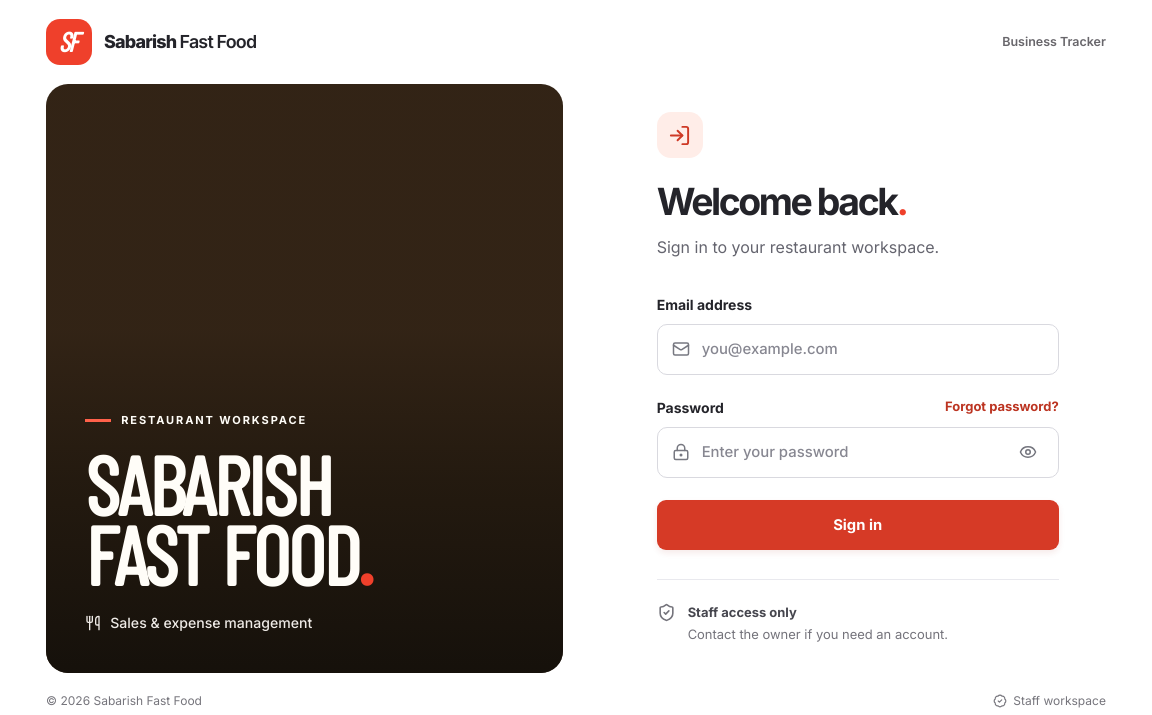
it: Staff sign in › submits a recovery request and shows a generic acknowledgement
Click the button "Forgot password?".
click(1002, 407)  # box [945,398,1059,417]
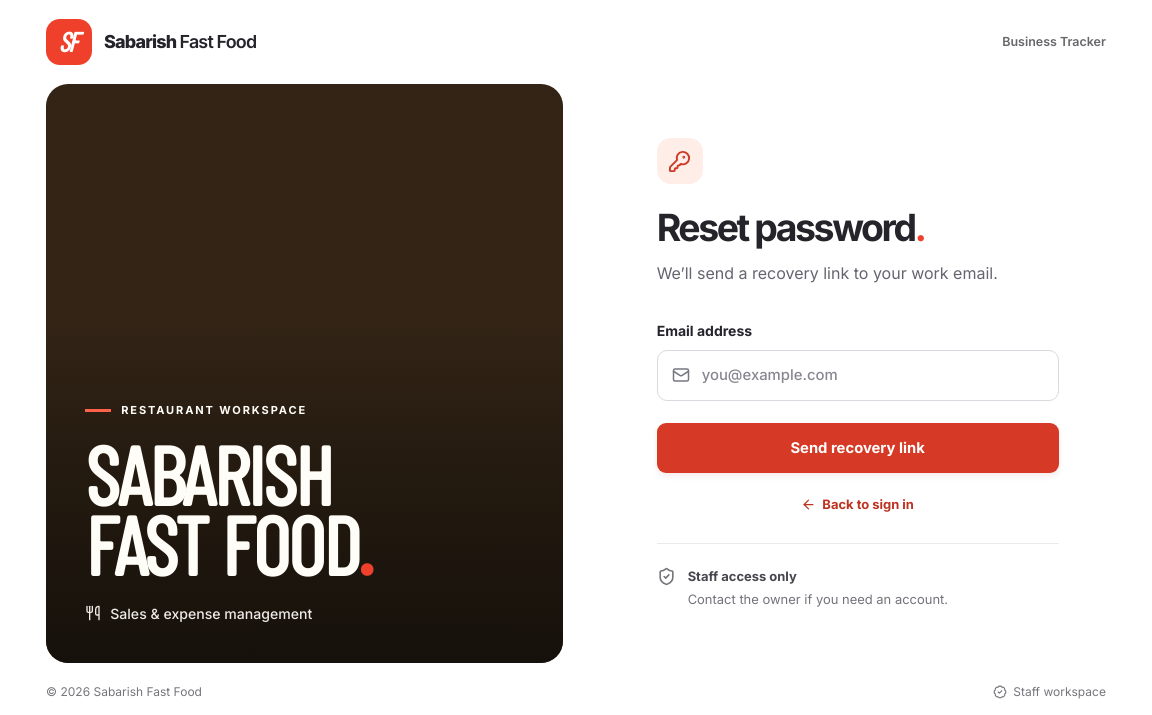
Type "owner@example.test" into the field labelled "Email address".
click(873, 375); type("owner@example.test")  # box [702,351,1044,400]
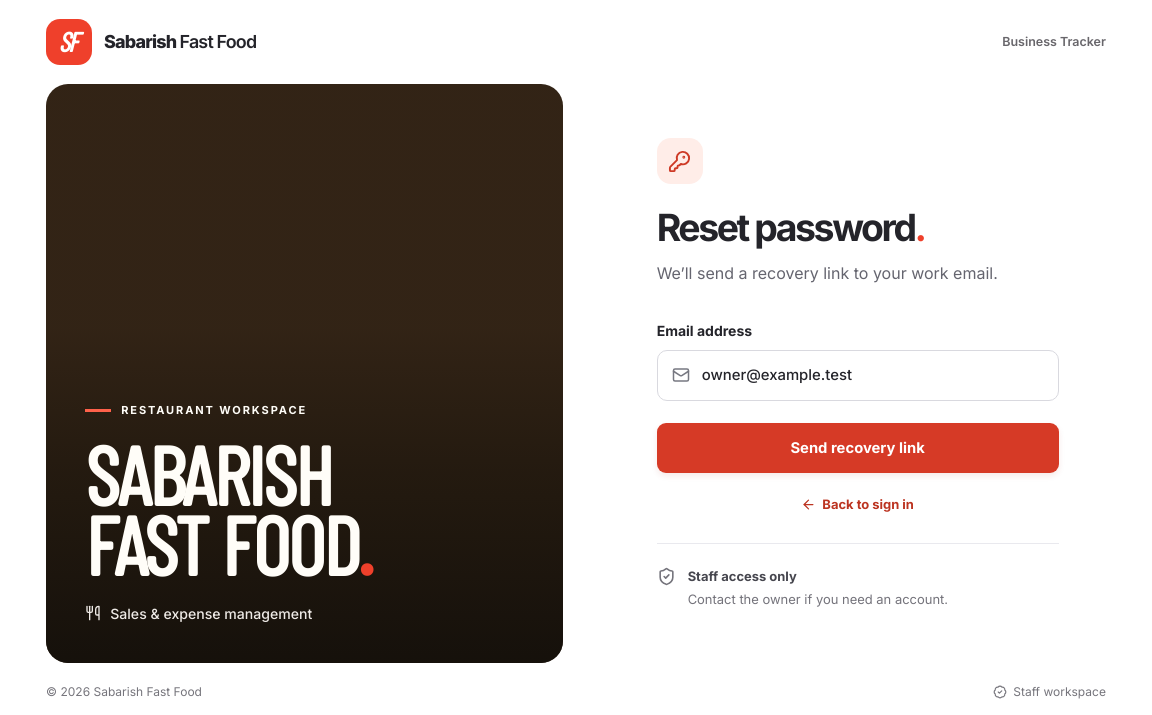
Click the button "Send recovery link".
click(858, 448)  # box [657,423,1059,473]
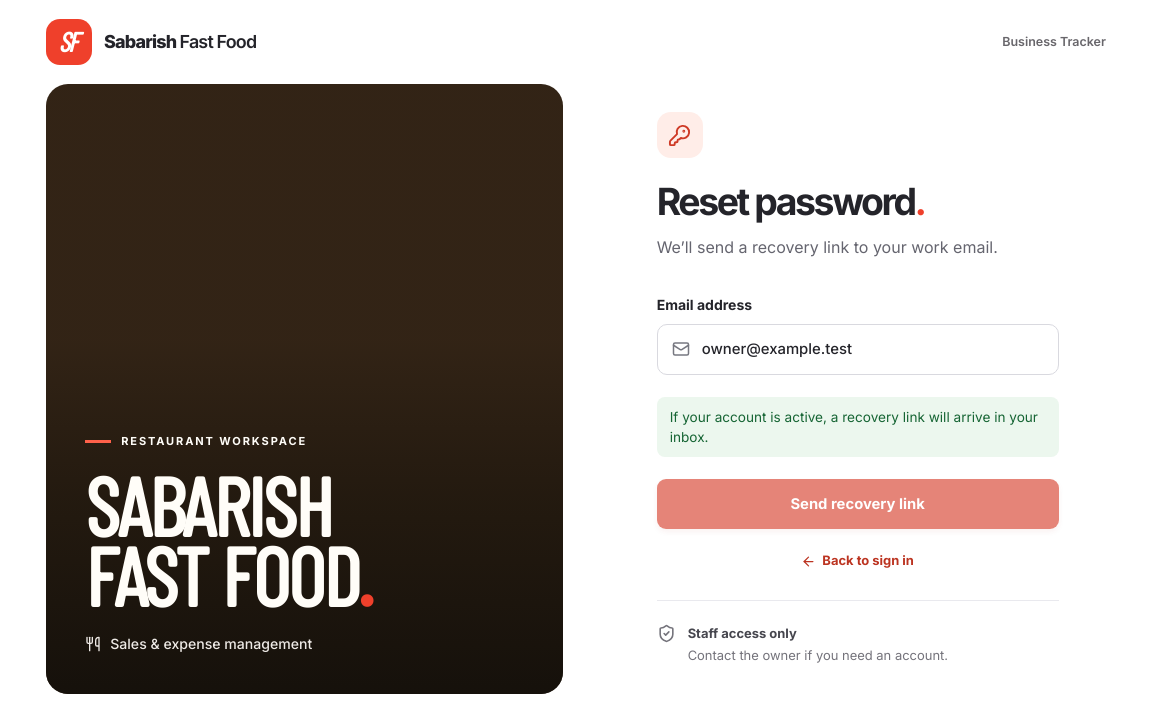
expect the message shows "If your account is active": met, box [670,409,1038,445]
